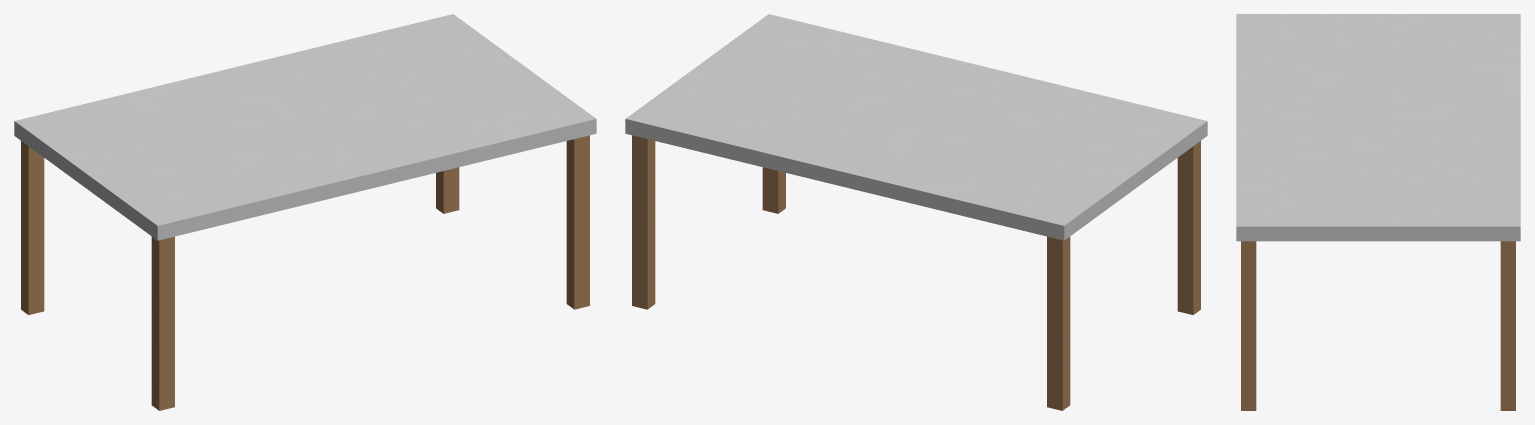
File: Desk_01_04.fbx
3 renders of one model, left to right at view 1: azimuth 30°, elevation 25°; view 2: azimuth 150°, elevation 25°; view 3: azimuth 270°, elevation 25°, orthographic.
Parts seen in each view (by area): view 1: Desk_01_04; view 2: Desk_01_04; view 3: Desk_01_04.
Boxes of the visible parts, box(x1,y1,x2,y2) form: Desk_01_04: box(14, 14, 596, 410); Desk_01_04: box(625, 14, 1207, 410); Desk_01_04: box(1236, 14, 1520, 410).
Size of the model in its own units: 1.98 by 0.8103 by 1.12.
